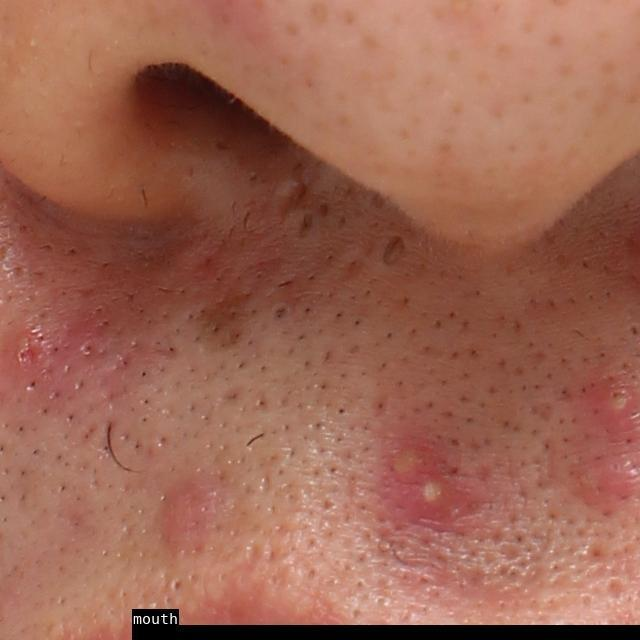atrophic_scar: (172, 288, 248, 363), (281, 177, 325, 222)
papule: (160, 483, 208, 549)
pustule: (576, 452, 633, 508), (375, 434, 433, 487), (407, 476, 454, 519)
